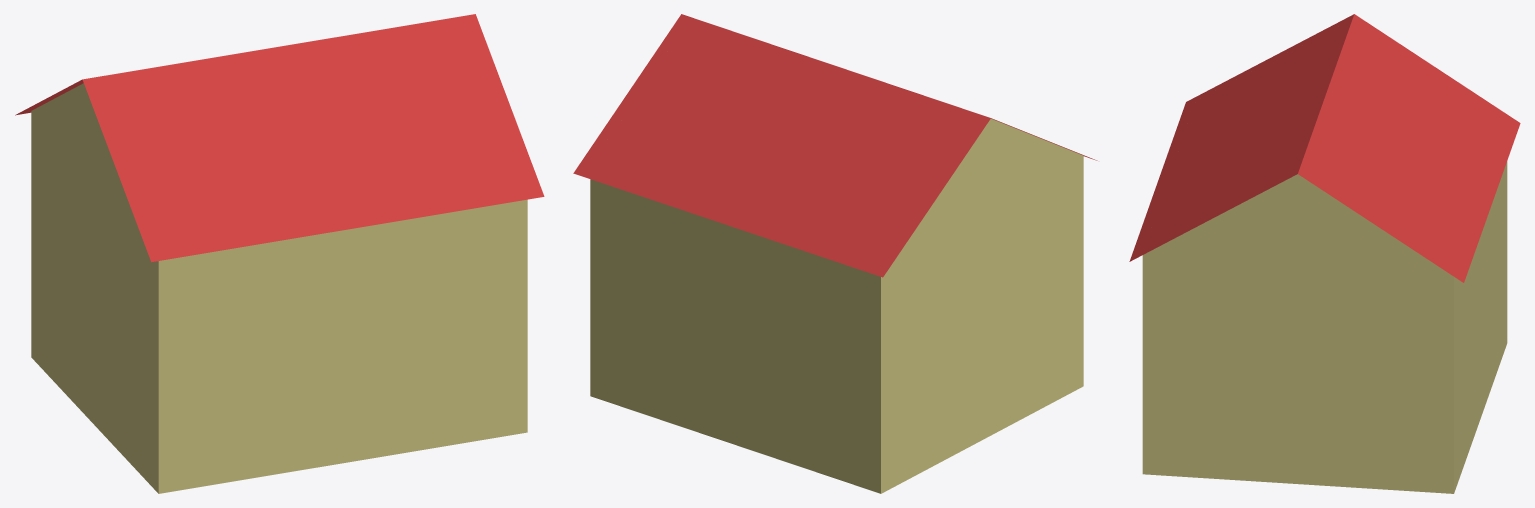
The picture shows the model from 3 angles, left to right: view 1: azimuth 30°, elevation 25°; view 2: azimuth 150°, elevation 25°; view 3: azimuth 270°, elevation 25°; orthographic projection. The views are drawn at different scales.
Size of the model in its own units: 18.15 by 16.56 by 14.72.
